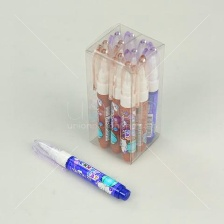correction_fluid: (28, 137, 132, 205), (89, 45, 112, 150), (116, 59, 139, 163), (106, 51, 124, 155), (131, 53, 149, 154), (144, 46, 162, 144)
plastic_box: (81, 20, 166, 166)
